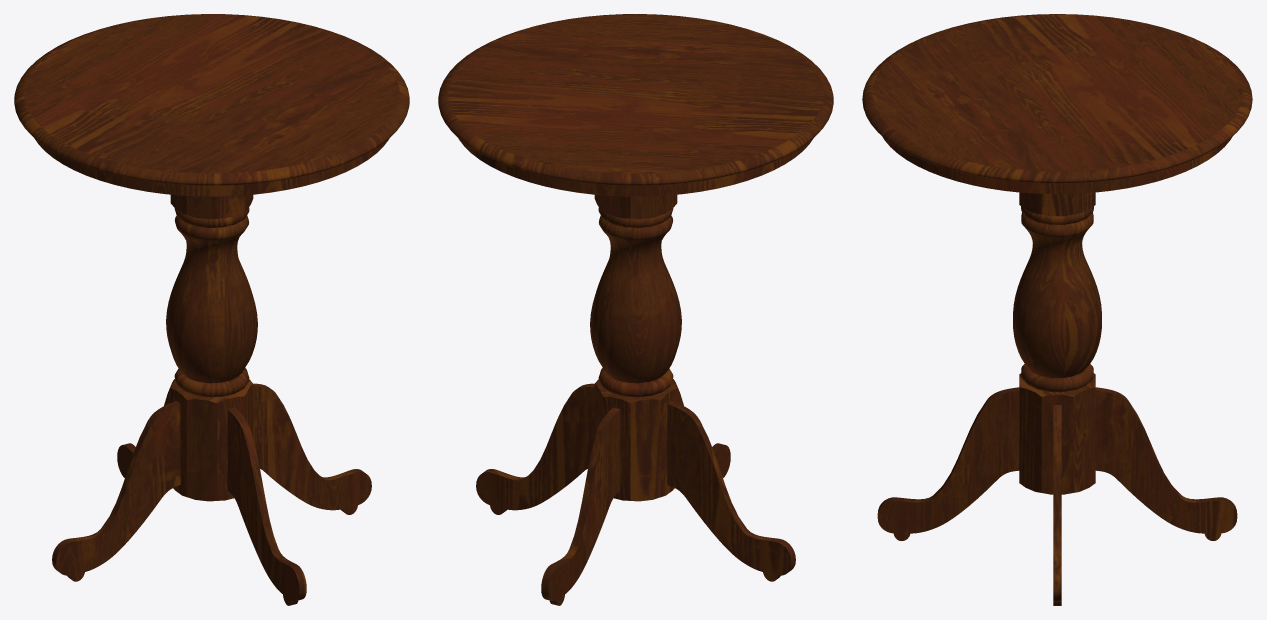
Rendered from victorian_table.glb.
3 renders of one model, left to right at view 1: azimuth 30°, elevation 25°; view 2: azimuth 150°, elevation 25°; view 3: azimuth 270°, elevation 25°, orthographic.
Parts seen in each view (by area): view 1: Chair_Table_Mat_0; view 2: Chair_Table_Mat_0; view 3: Chair_Table_Mat_0.
Part boxes in pixels (x1,y1,x2,y2): Chair_Table_Mat_0: (14,14,409,605); Chair_Table_Mat_0: (438,14,833,605); Chair_Table_Mat_0: (862,14,1252,605).
Size of the model in its own units: 0.7228 by 0.9123 by 0.7228.
1 material, 1 textured.
